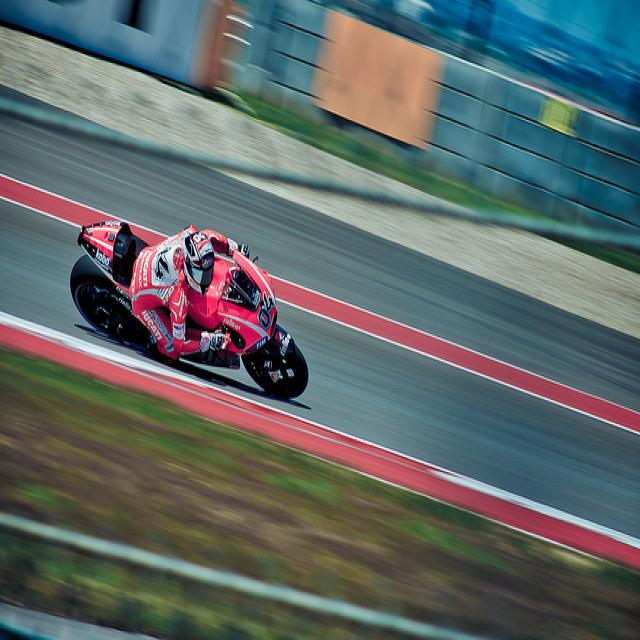motor: (69, 217, 311, 403)
